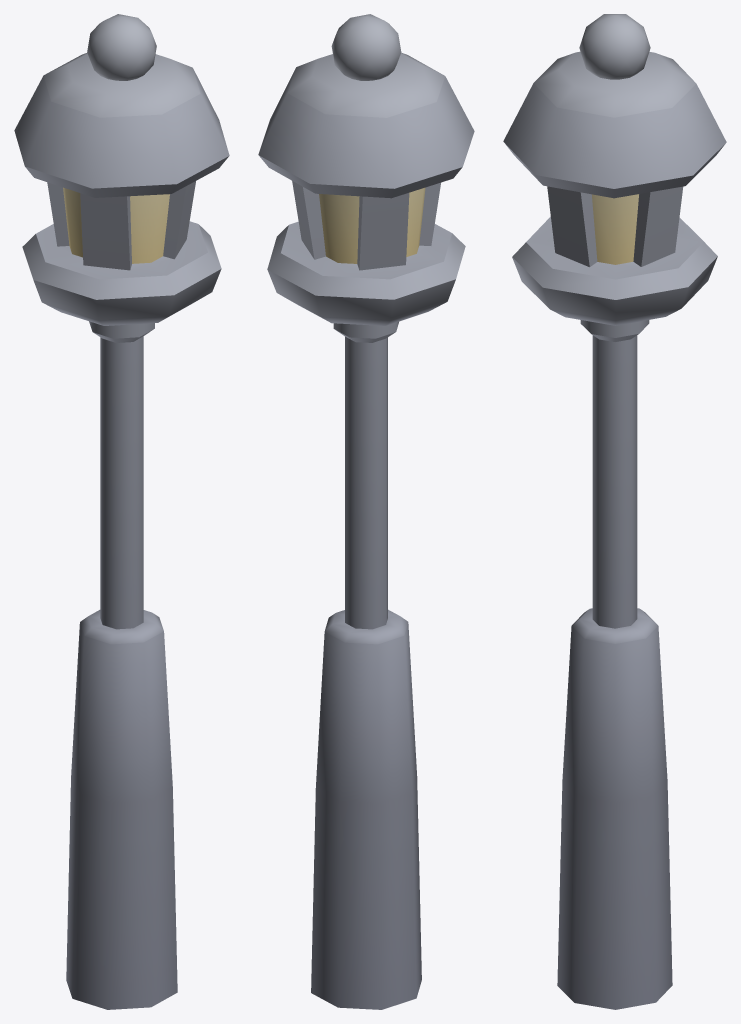
File: street_lantern.fbx
3 renders of one model, left to right at view 1: azimuth 30°, elevation 25°; view 2: azimuth 150°, elevation 25°; view 3: azimuth 270°, elevation 25°, orthographic.
Parts seen in each view (by area): view 1: street_lantern; view 2: street_lantern; view 3: street_lantern.
Boxes of the visible parts, x1,y1,x2,y2 form: street_lantern: [14, 14, 229, 1009]; street_lantern: [258, 14, 474, 1009]; street_lantern: [503, 14, 726, 1009].
Bounding box in the file's own units: 0.9398 × 4.5 × 0.9398.
